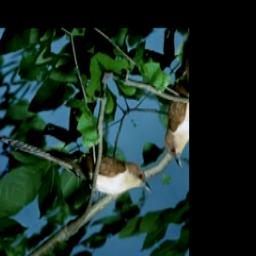Cuckoo: (0, 66, 158, 256)
